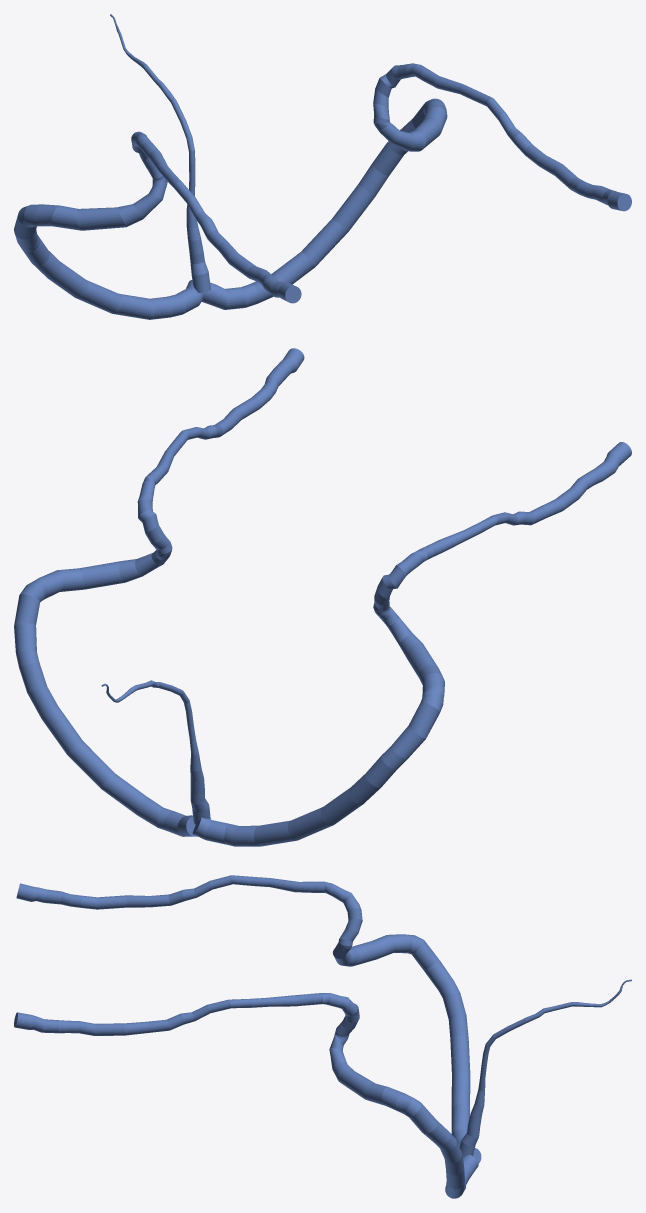
Rendered from Sinuses.fbx.
3 views of the same model, one above another, from view 1: azimuth 30°, elevation 25°; view 2: azimuth 150°, elevation 25°; view 3: azimuth 270°, elevation 25° (orthographic). The views are drawn at different scales.
Visible parts, largest first — view 1: S_L_Transverse_Sinus, S_R_Sigmoid_Sinus, V_L_Internal_Jugular_Vein, S_R_Transverse_Sinus, S_L_Sigmoid_Sinus, V_R_Internal_Jugular_Vein, S_Straight_Sinus, S_Inferior_Saggital_Sinus; view 2: S_L_Sigmoid_Sinus, S_R_Sigmoid_Sinus, S_L_Transverse_Sinus, S_R_Transverse_Sinus, V_R_Internal_Jugular_Vein, V_L_Internal_Jugular_Vein, S_Straight_Sinus; view 3: V_L_Internal_Jugular_Vein, V_R_Internal_Jugular_Vein, S_R_Sigmoid_Sinus, S_L_Sigmoid_Sinus, S_R_Transverse_Sinus, S_Straight_Sinus, S_L_Transverse_Sinus, S_Inferior_Saggital_Sinus.
Part boxes in pixels (<box>): S_L_Transverse_Sinus: <box>201,163,389,309</box>; S_R_Sigmoid_Sinus: <box>14,138,167,265</box>; V_L_Internal_Jugular_Vein: <box>386,63,631,211</box>; S_R_Transverse_Sinus: <box>33,251,203,319</box>; S_L_Sigmoid_Sinus: <box>372,74,447,175</box>; V_R_Internal_Jugular_Vein: <box>23,131,301,303</box>; S_Straight_Sinus: <box>186,163,210,292</box>; S_Inferior_Saggital_Sinus: <box>110,14,195,163</box>; S_L_Sigmoid_Sinus: <box>14,510,172,692</box>; S_R_Sigmoid_Sinus: <box>365,574,444,788</box>; S_L_Transverse_Sinus: <box>27,686,197,836</box>; S_R_Transverse_Sinus: <box>192,774,380,846</box>; V_R_Internal_Jugular_Vein: <box>389,442,631,588</box>; V_L_Internal_Jugular_Vein: <box>137,348,304,517</box>; S_Straight_Sinus: <box>186,711,210,824</box>; V_L_Internal_Jugular_Vein: <box>14,993,356,1035</box>; V_R_Internal_Jugular_Vein: <box>16,875,358,910</box>; S_R_Sigmoid_Sinus: <box>333,903,466,1019</box>; S_L_Sigmoid_Sinus: <box>329,1003,462,1163</box>; S_R_Transverse_Sinus: <box>448,1015,481,1163</box>; S_Straight_Sinus: <box>459,1054,488,1157</box>; S_L_Transverse_Sinus: <box>444,1154,478,1198</box>; S_Inferior_Saggital_Sinus: <box>483,979,631,1055</box>.
Bounding box in the file's own units: 41833 × 26203 × 61040.
